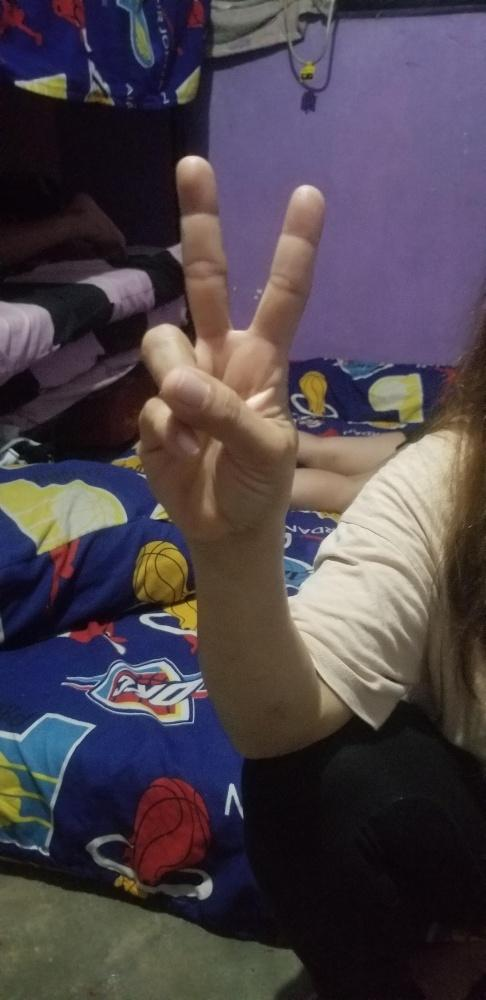v: (135, 152, 325, 529)
